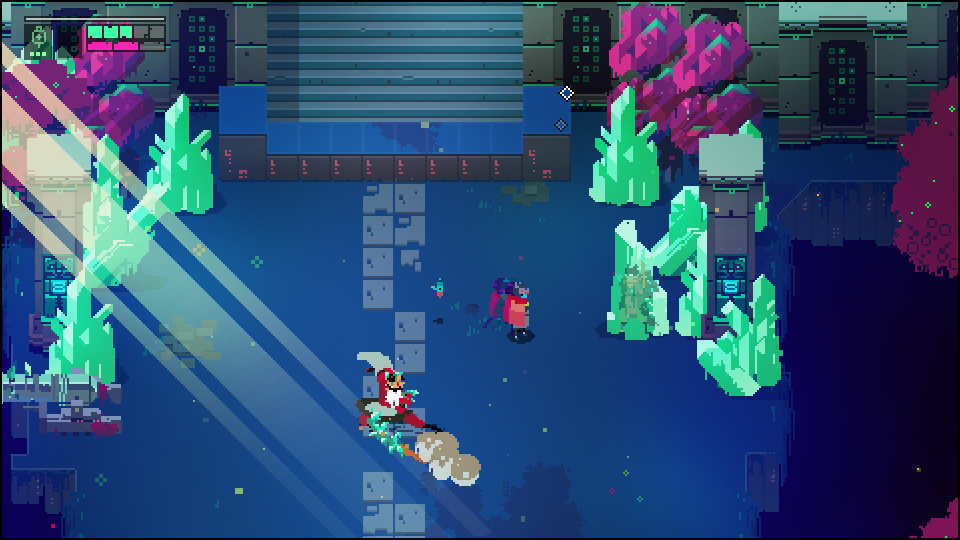hanged_man: (349, 348, 435, 463)
player: (507, 283, 531, 342)
